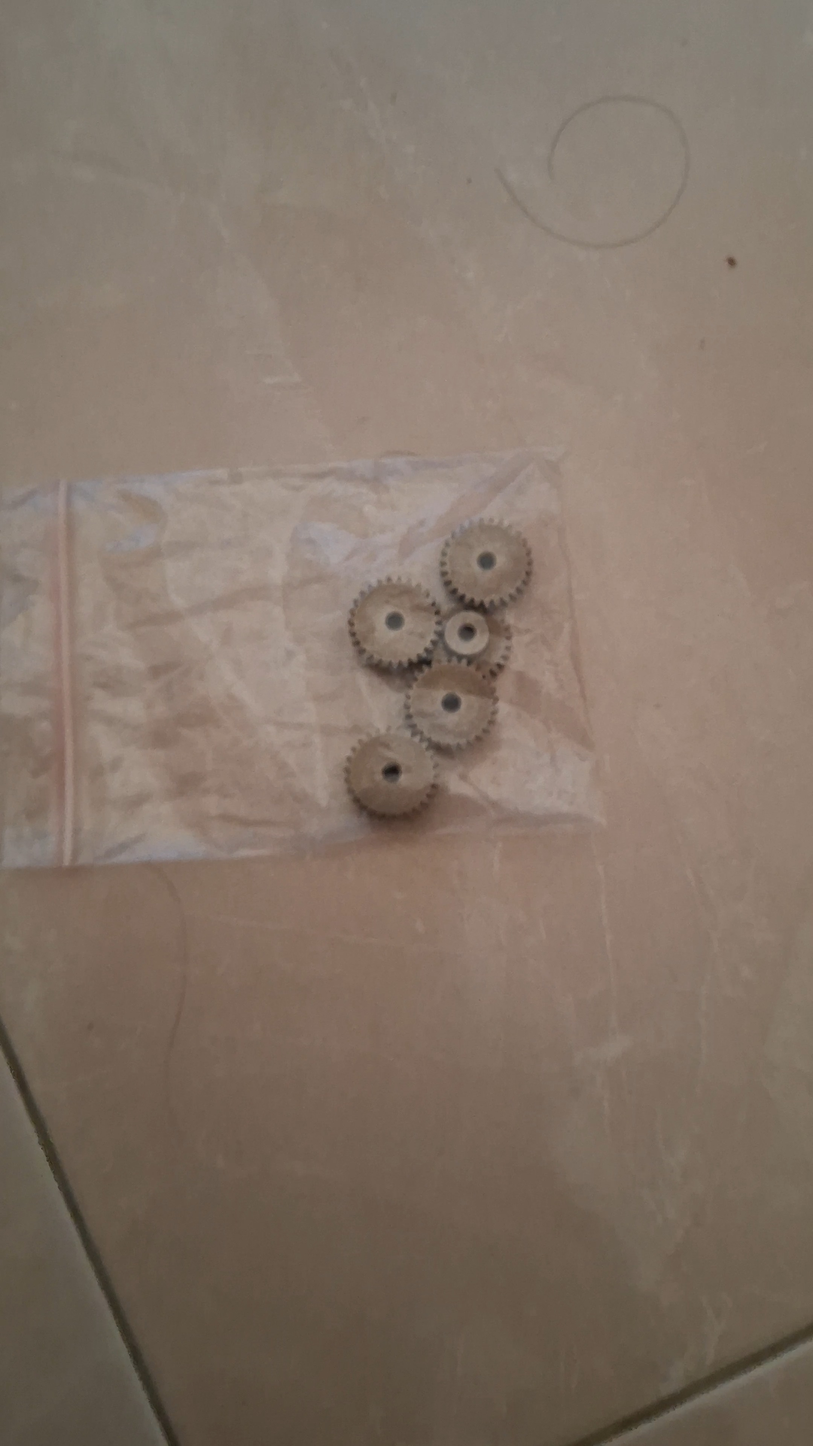spur gear: (348, 578, 441, 670), (440, 520, 531, 610), (406, 661, 496, 749), (345, 732, 437, 817), (443, 610, 511, 677)
